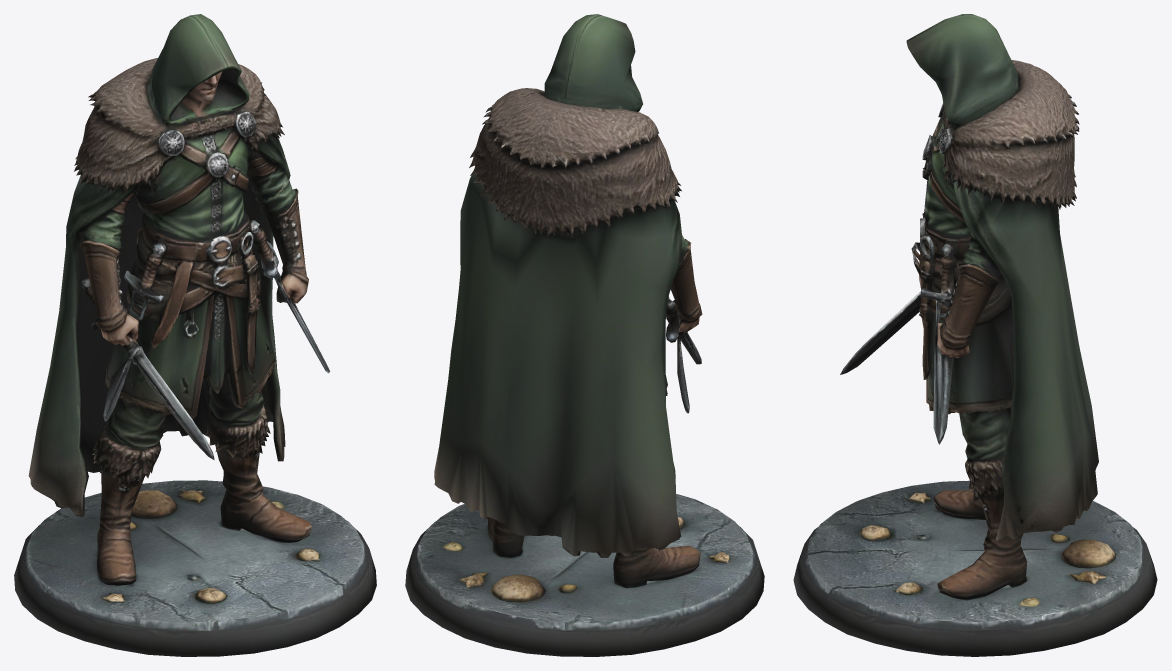
Rendered from thief_def_male.glb.
3 views of the same model, side by side, from view 1: azimuth 30°, elevation 25°; view 2: azimuth 150°, elevation 25°; view 3: azimuth 270°, elevation 25° (orthographic).
Visible parts, largest first — view 1: tripo_node_3a8d0bf1-333f-4902-bffc-1184b890661f; view 2: tripo_node_3a8d0bf1-333f-4902-bffc-1184b890661f; view 3: tripo_node_3a8d0bf1-333f-4902-bffc-1184b890661f.
Part boxes in pixels (x1,y1,x2,y2): tripo_node_3a8d0bf1-333f-4902-bffc-1184b890661f: [14, 14, 376, 656]; tripo_node_3a8d0bf1-333f-4902-bffc-1184b890661f: [405, 14, 764, 656]; tripo_node_3a8d0bf1-333f-4902-bffc-1184b890661f: [793, 14, 1157, 656].
Size of the model in its own units: 0.584 by 0.998 by 0.584.
Materials: 1 (1 with a texture image).
